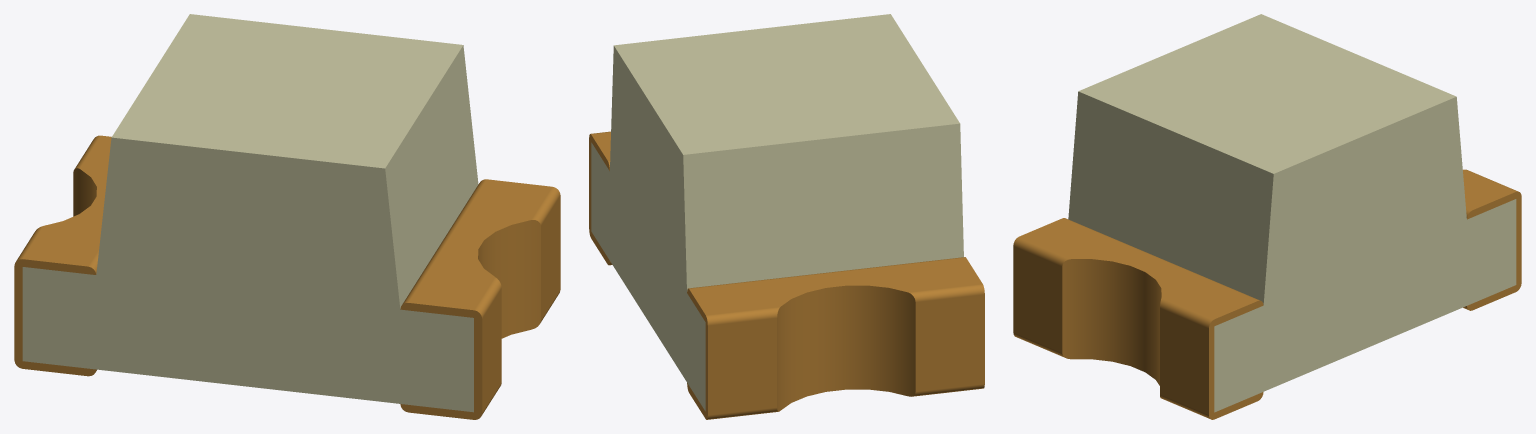
The model's file is D17_LED_0805_2012Metric_Castellated.obj.
3 views of the same model, side by side, from view 1: azimuth 30°, elevation 25°; view 2: azimuth 150°, elevation 25°; view 3: azimuth 270°, elevation 25° (orthographic). The views are drawn at different scales.
Visible parts, largest first — view 1: D17; view 2: D17; view 3: D17.
Boxes of the visible parts, x1,y1,x2,y2 form: D17: (14,14,560,419); D17: (589,14,984,419); D17: (1013,14,1521,419).
Size of the model in its own units: 0.023 by 0.011 by 0.023.
